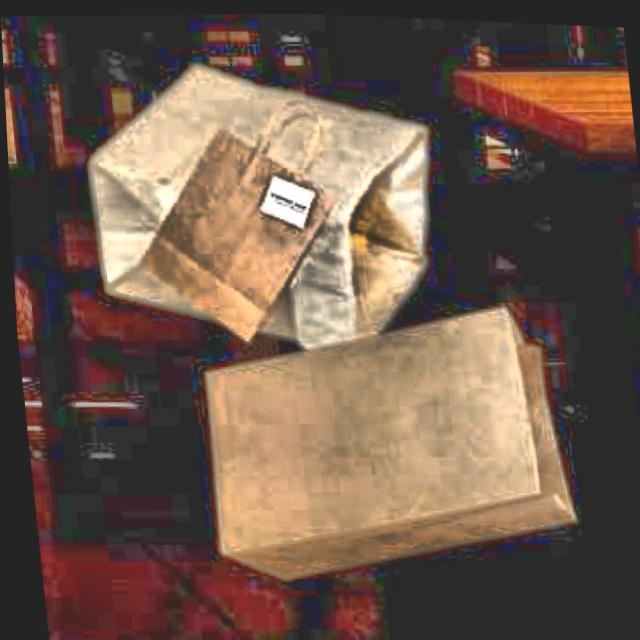Paper-bag: (30, 28, 475, 367), (177, 277, 597, 587)
